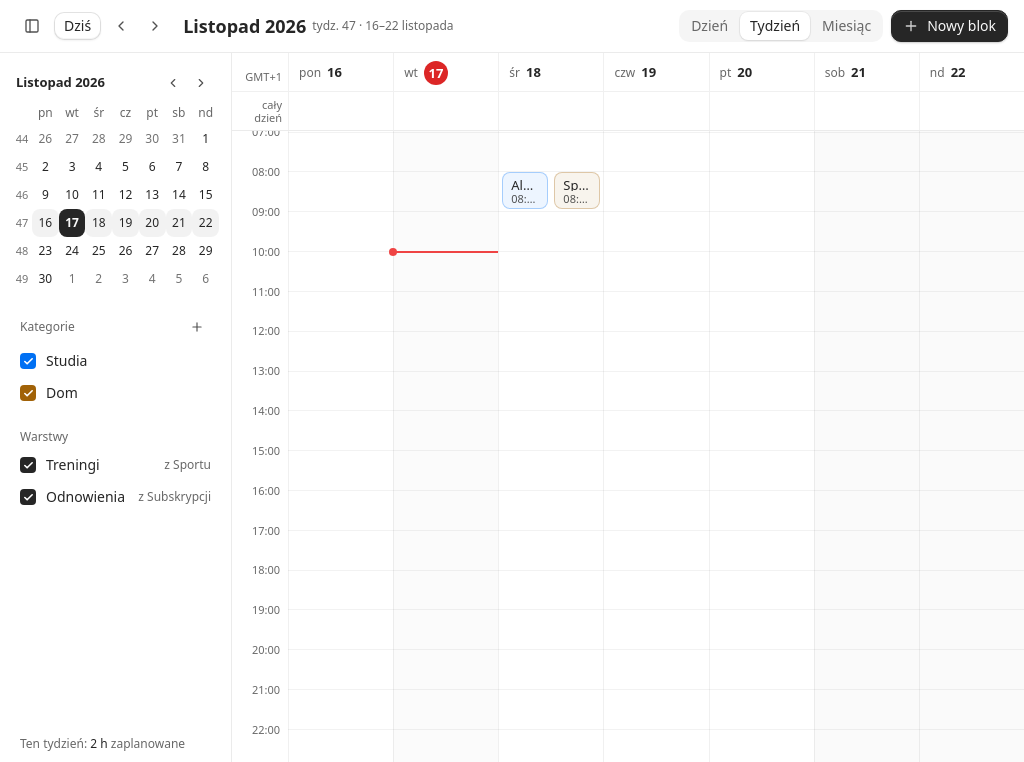
Test: CalendarView › odhaczenie kategorii w menu ukrywa ją od razu i woła setCategoryHidden
Click the button "Dom" at [116, 393], box [12,377,219,409]
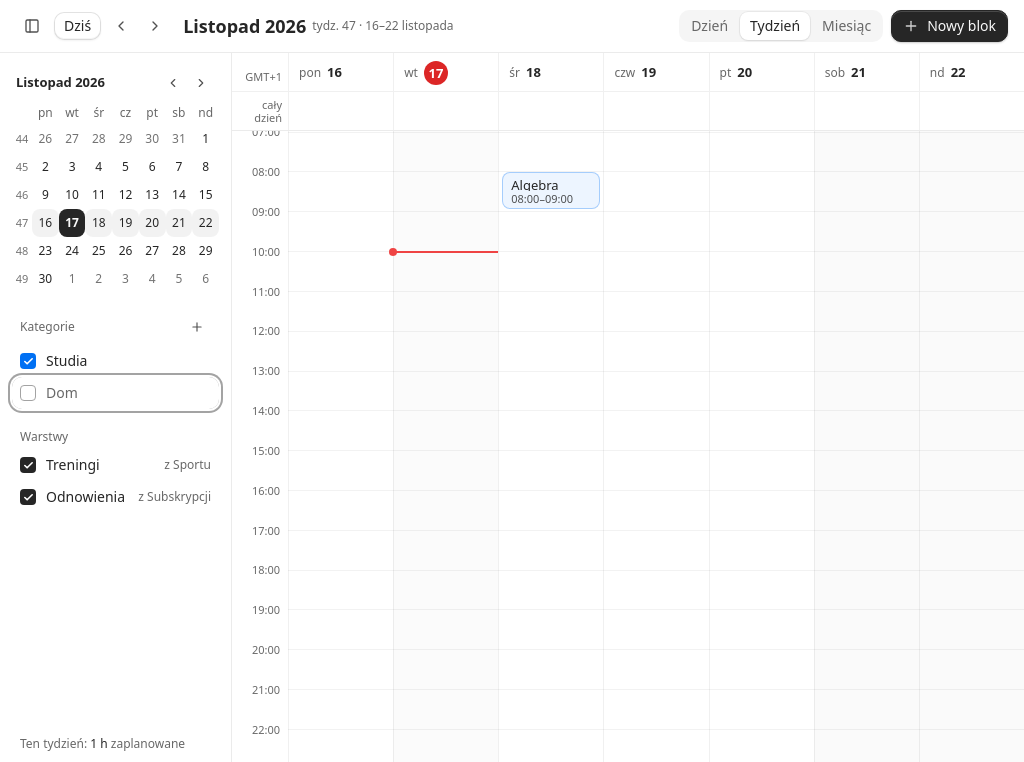
Expected: the text "Algebra" is shown, [511,176,559,194]
Expected: the button "Sprzątanie" is gone
